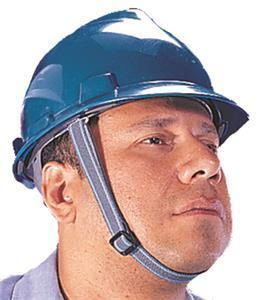helmet: (10, 5, 241, 172)
